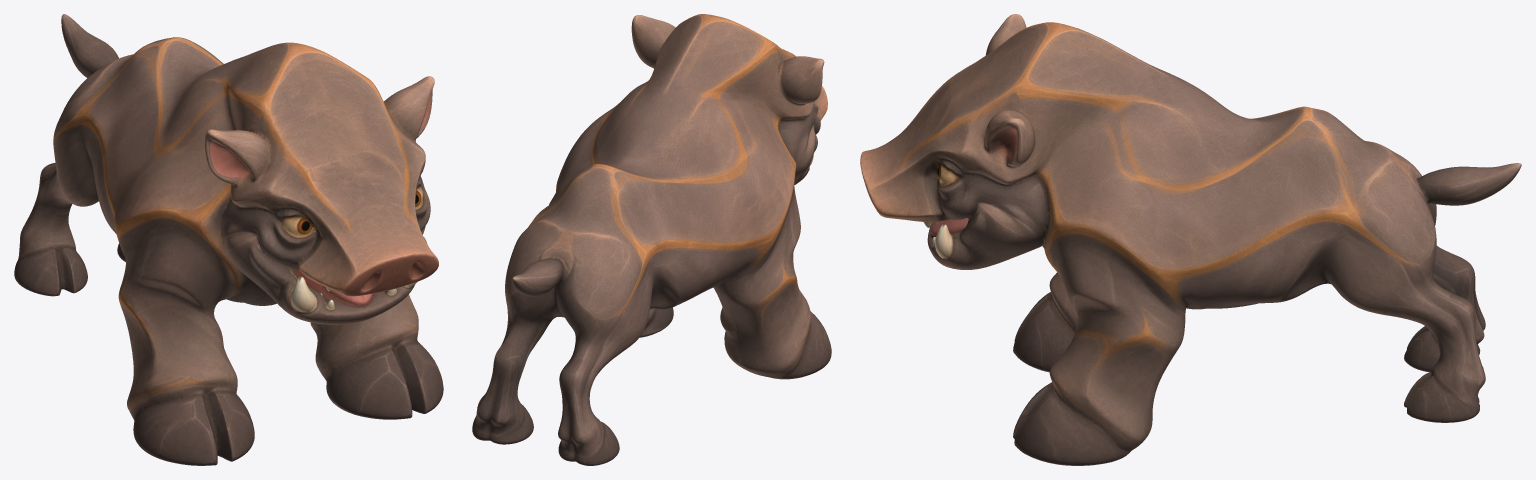
File: Meshy_AI_Stonehide_Boar_20261125_texture.glb
The picture shows the model from 3 angles, left to right: view 1: azimuth 30°, elevation 25°; view 2: azimuth 150°, elevation 25°; view 3: azimuth 270°, elevation 25°; orthographic projection. The views are drawn at different scales.
Bounding box in the file's own units: 0.95 × 1.18 × 1.9.
1 material, 1 textured.
